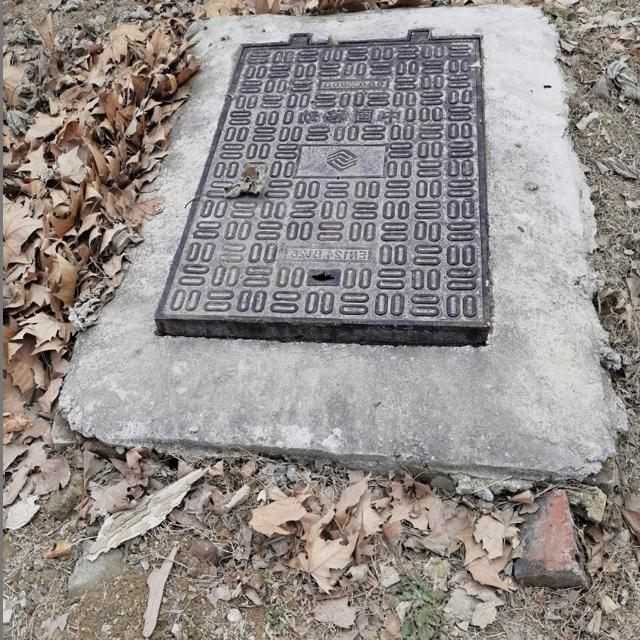uncovered: (151, 26, 496, 350)
